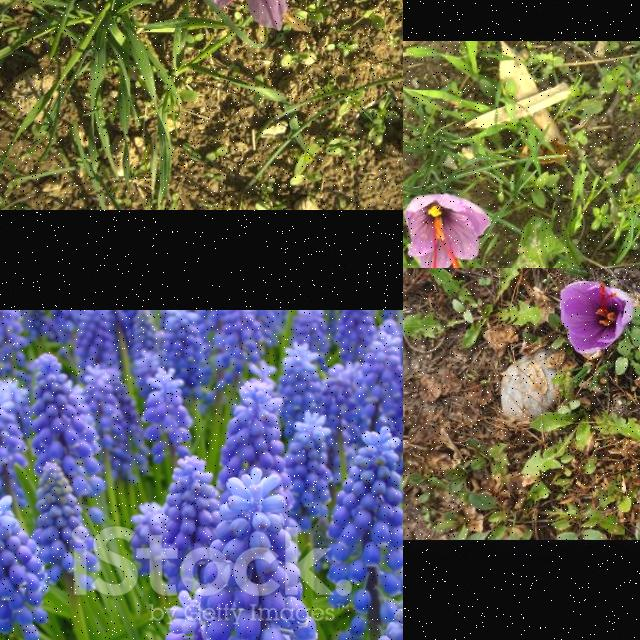flower: (404, 193, 492, 268), (559, 280, 633, 356), (162, 0, 295, 32)
